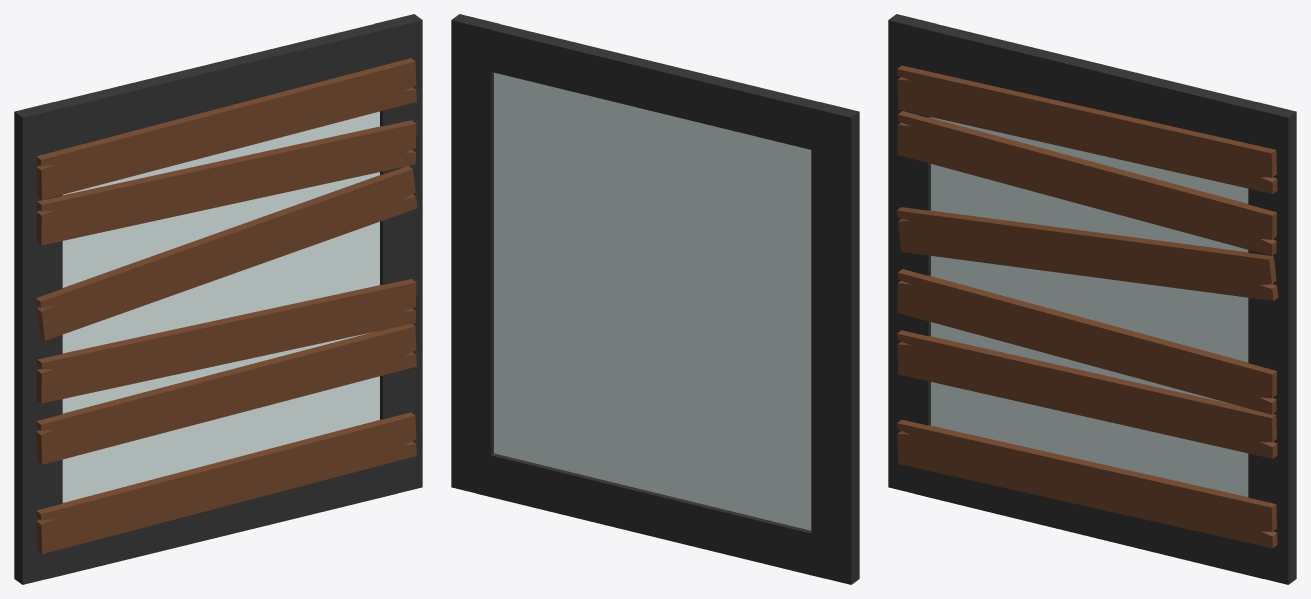
The model's file is BoardedWindow.fbx.
The picture shows the model from 3 angles, left to right: view 1: azimuth 30°, elevation 25°; view 2: azimuth 150°, elevation 25°; view 3: azimuth 330°, elevation 25°; orthographic projection.
Parts seen in each view (by area): view 1: Cube.121; view 2: Cube.121; view 3: Cube.121.
Part boxes in pixels (<box>): Cube.121: <box>14,14,422,584</box>; Cube.121: <box>451,14,859,584</box>; Cube.121: <box>888,14,1296,584</box>.
Bounding box in the file's own units: 645 × 720 × 36.68.
